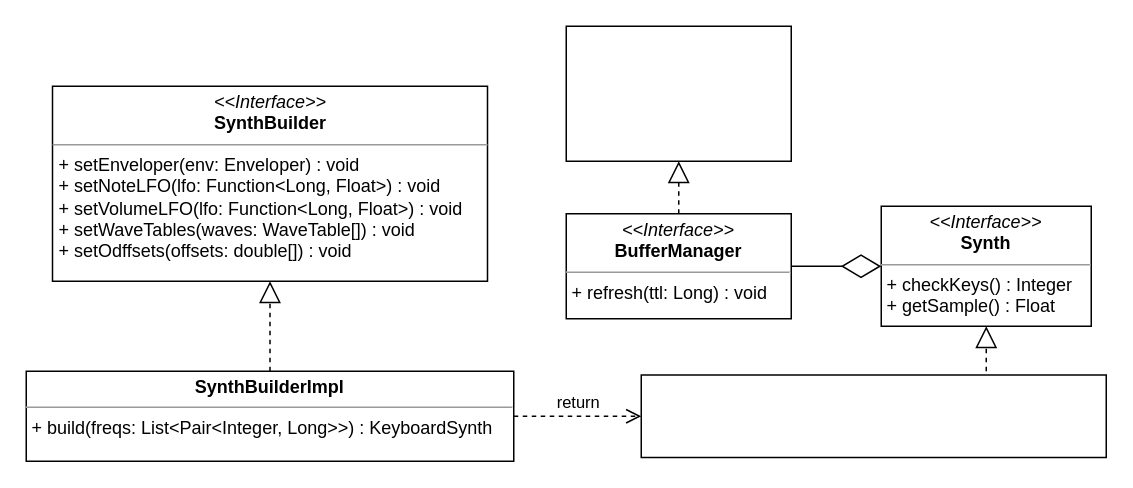
This 1133x488 diagram has some shape labels left out. The centre of each missing label's shape, as x and y in pixels:
"<<Interface>> Iterator<Float> + hasNext() : boolean + next() : Float" goes at [678,93].
"KeyboardSynth + playTimedNote(identifier: Integer, micros: Long) : void" goes at [873,416].
